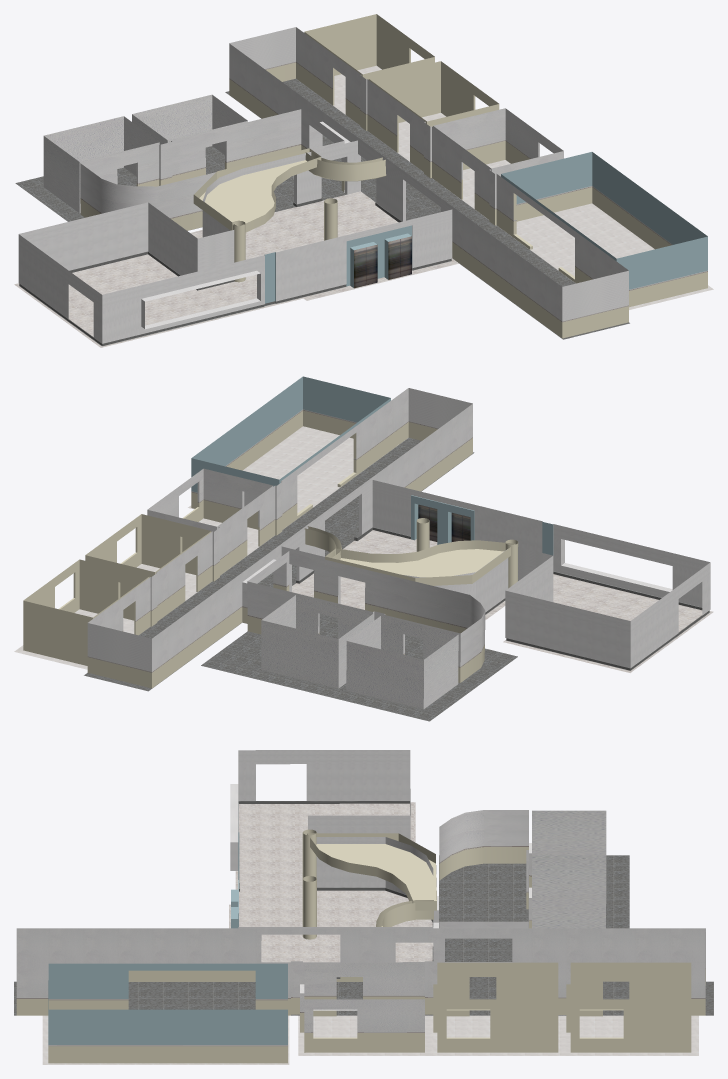
The model's file is MedicalCenter.FBX.
3 renders of one model, top to bottom at view 1: azimuth 30°, elevation 25°; view 2: azimuth 150°, elevation 25°; view 3: azimuth 270°, elevation 25°, orthographic. The views are drawn at different scales.
Parts seen in each view (by area): view 1: WNewLobbyWalls, WIntersect_hall, WIntensive_care, Wconsult_hall, F_lobby_floor, F_longHall_floor, Wconsult_02, F_IntensiveCare_floor, Wroom01, Wroom02, Wroom03, Wlobby_fakeRoof (+9 smaller); view 2: WIntersect_hall, WNewLobbyWalls, Wconsult_hall, WIntensive_care, Wconsult_02, Wroom03, Wconsult_01, F_lobby_floor, F_consult_floor, F_longHall_floor, Wlobby_fakeRoof, F_IntensiveCare_floor (+5 smaller); view 3: WIntersect_hall, WIntensive_care, F_lobby_floor, WNewLobbyWalls, Wroom02, Wroom03, Wroom01, F_consult_floor, Wconsult_hall, F_longHall_floor, F_Rooms_floor, Wconsult_01 (+7 smaller).
Boxes of the visible parts, left/top/right/bottom form: WNewLobbyWalls: left=18, top=140, right=452, bottom=343; WIntersect_hall: left=229, top=27, right=628, bottom=338; WIntensive_care: left=501, top=152, right=707, bottom=307; Wconsult_hall: left=80, top=109, right=350, bottom=230; F_lobby_floor: left=14, top=191, right=458, bottom=347; F_longHall_floor: left=225, top=78, right=629, bottom=339; Wconsult_02: left=43, top=116, right=159, bottom=213; F_IntensiveCare_floor: left=516, top=203, right=713, bottom=309; Wroom01: left=433, top=108, right=563, bottom=199; Wroom02: left=368, top=61, right=499, bottom=152; Wroom03: left=304, top=14, right=434, bottom=105; Wlobby_fakeRoof: left=193, top=148, right=321, bottom=232; WIntersect_hall: left=87, top=388, right=472, bottom=688; WNewLobbyWalls: left=281, top=480, right=710, bottom=668; Wconsult_hall: left=242, top=551, right=485, bottom=682; WIntensive_care: left=191, top=376, right=390, bottom=515; Wconsult_02: left=346, top=615, right=458, bottom=709; Wroom03: left=23, top=559, right=149, bottom=665; Wconsult_01: left=261, top=595, right=373, bottom=688; F_lobby_floor: left=292, top=530, right=713, bottom=672; F_consult_floor: left=201, top=613, right=517, bottom=721; F_longHall_floor: left=84, top=437, right=474, bottom=691; Wlobby_fakeRoof: left=325, top=540, right=515, bottom=585; F_IntensiveCare_floor: left=188, top=426, right=353, bottom=512; WIntersect_hall: left=16, top=928, right=705, bottom=1015; WIntensive_care: left=48, top=963, right=287, bottom=1063; F_lobby_floor: left=229, top=802, right=433, bottom=962; WNewLobbyWalls: left=230, top=750, right=438, bottom=928; Wroom02: left=433, top=962, right=558, bottom=1052; Wroom03: left=566, top=962, right=691, bottom=1052; Wroom01: left=300, top=962, right=424, bottom=1052; F_consult_floor: left=439, top=855, right=629, bottom=981; Wconsult_hall: left=439, top=810, right=531, bottom=928; F_longHall_floor: left=14, top=981, right=713, bottom=1015; F_Rooms_floor: left=298, top=1015, right=698, bottom=1055; Wconsult_01: left=532, top=855, right=605, bottom=928.
Bounding box in the file's own units: 3271 × 336 × 3687.
9 materials, 9 textured.
